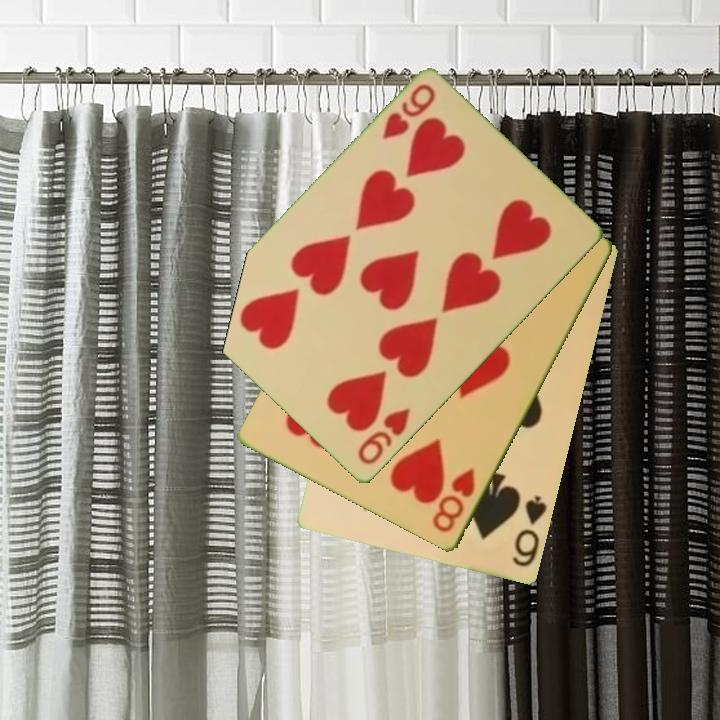6s: (509, 492, 551, 570)
8h: (428, 465, 479, 536)
9h: (354, 405, 414, 468), (379, 80, 439, 143)
